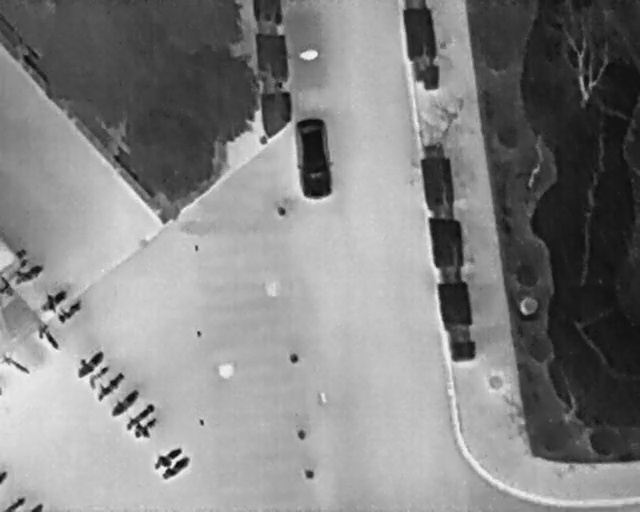Bicycle: (33, 281, 74, 321), (69, 345, 110, 383), (89, 366, 128, 404), (105, 383, 144, 421), (120, 398, 158, 434), (127, 411, 165, 447), (149, 440, 186, 474), (157, 451, 194, 485), (8, 257, 46, 289), (32, 321, 65, 355), (53, 294, 87, 326), (82, 361, 116, 393), (0, 353, 32, 376), (3, 495, 25, 510), (29, 502, 45, 511), (0, 470, 9, 485)
Car: (290, 116, 337, 202)
